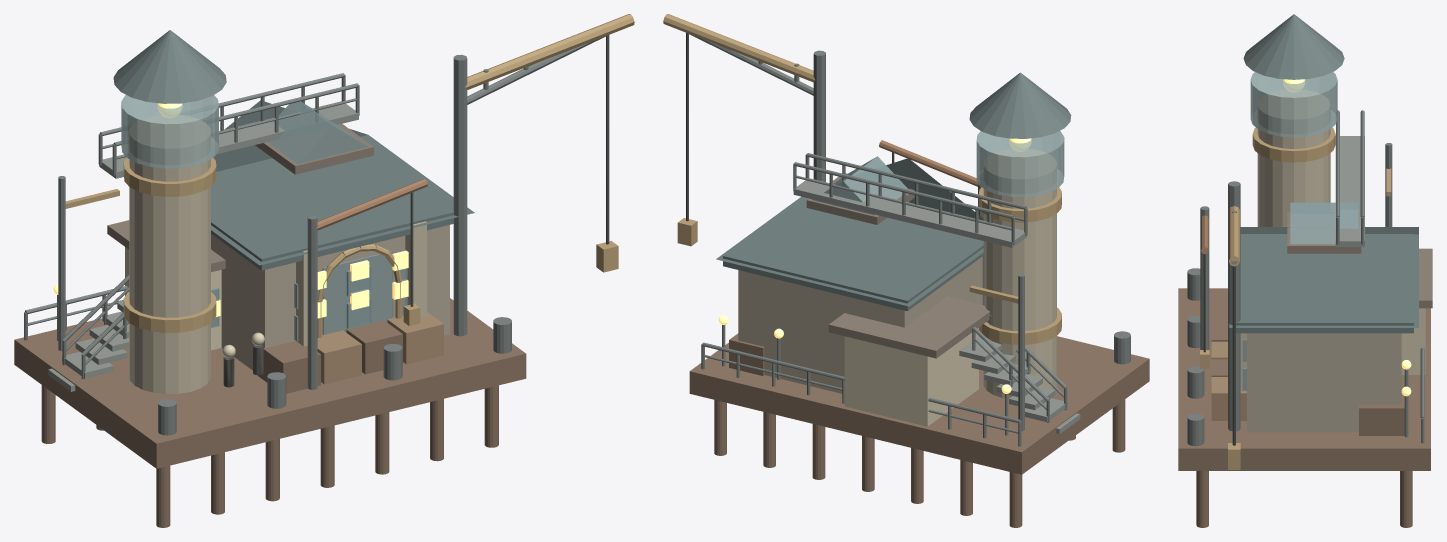
Rendered from arrival-harbor.glb.
The picture shows the model from 3 angles, left to right: view 1: azimuth 30°, elevation 25°; view 2: azimuth 150°, elevation 25°; view 3: azimuth 270°, elevation 25°; orthographic projection. The views are drawn at different scales.
Visible parts, largest first — view 1: dock_base, arrival_tower, warehouse_roof, warehouse, lantern_room, tower_cap, crane_mast, warehouse_monitor_base, warehouse_monitor_gable, warehouse_arch_glass, tower_walk_deck, warehouse_gable (+26 smaller); view 2: dock_base, warehouse_roof, warehouse, arrival_tower, customs_annex, lantern_room, customs_awning, tower_cap, tower_walk_deck, warehouse_gable, crane_boom, warehouse_monitor_gable (+23 smaller); view 3: warehouse_roof, dock_base, warehouse, arrival_tower, lantern_room, tower_cap, warehouse_monitor_gable, tower_walk_deck, warehouse_monitor_base, crane_mast, warehouse_gable, cargo_4 (+21 smaller).
Part boxes in pixels (x1,y1,x2,y2): dock_base: [14, 298, 526, 468]; arrival_tower: [129, 115, 210, 393]; warehouse_roof: [211, 135, 453, 270]; warehouse: [211, 225, 449, 370]; lantern_room: [121, 95, 218, 168]; tower_cap: [113, 30, 226, 103]; crane_mast: [453, 54, 467, 336]; warehouse_monitor_base: [255, 124, 373, 174]; warehouse_monitor_gable: [268, 101, 367, 163]; warehouse_arch_glass: [322, 250, 393, 334]; tower_walk_deck: [99, 101, 358, 178]; warehouse_gable: [211, 100, 474, 265]; dock_base: [689, 336, 1149, 474]; warehouse_roof: [723, 197, 983, 311]; warehouse: [738, 256, 982, 393]; arrival_tower: [983, 149, 1056, 398]; customs_annex: [844, 327, 978, 426]; lantern_room: [976, 131, 1064, 196]; customs_awning: [828, 296, 989, 358]; tower_cap: [969, 72, 1071, 138]; tower_walk_deck: [793, 178, 1026, 247]; warehouse_gable: [716, 158, 983, 306]; crane_boom: [663, 14, 815, 82]; warehouse_monitor_gable: [812, 156, 908, 215]; warehouse_roof: [1236, 234, 1413, 333]; dock_base: [1178, 288, 1430, 470]; warehouse: [1247, 333, 1401, 432]; arrival_tower: [1257, 90, 1330, 226]; lantern_room: [1250, 72, 1337, 137]; tower_cap: [1243, 14, 1344, 79]; warehouse_monitor_gable: [1290, 202, 1358, 244]; tower_walk_deck: [1335, 136, 1364, 246]; warehouse_monitor_base: [1287, 212, 1361, 253]; crane_mast: [1228, 181, 1240, 431]; warehouse_gable: [1229, 227, 1418, 327]; cargo_4: [1359, 393, 1404, 435].
Size of the model in its own units: 7.47 by 6.19 by 3.62.
